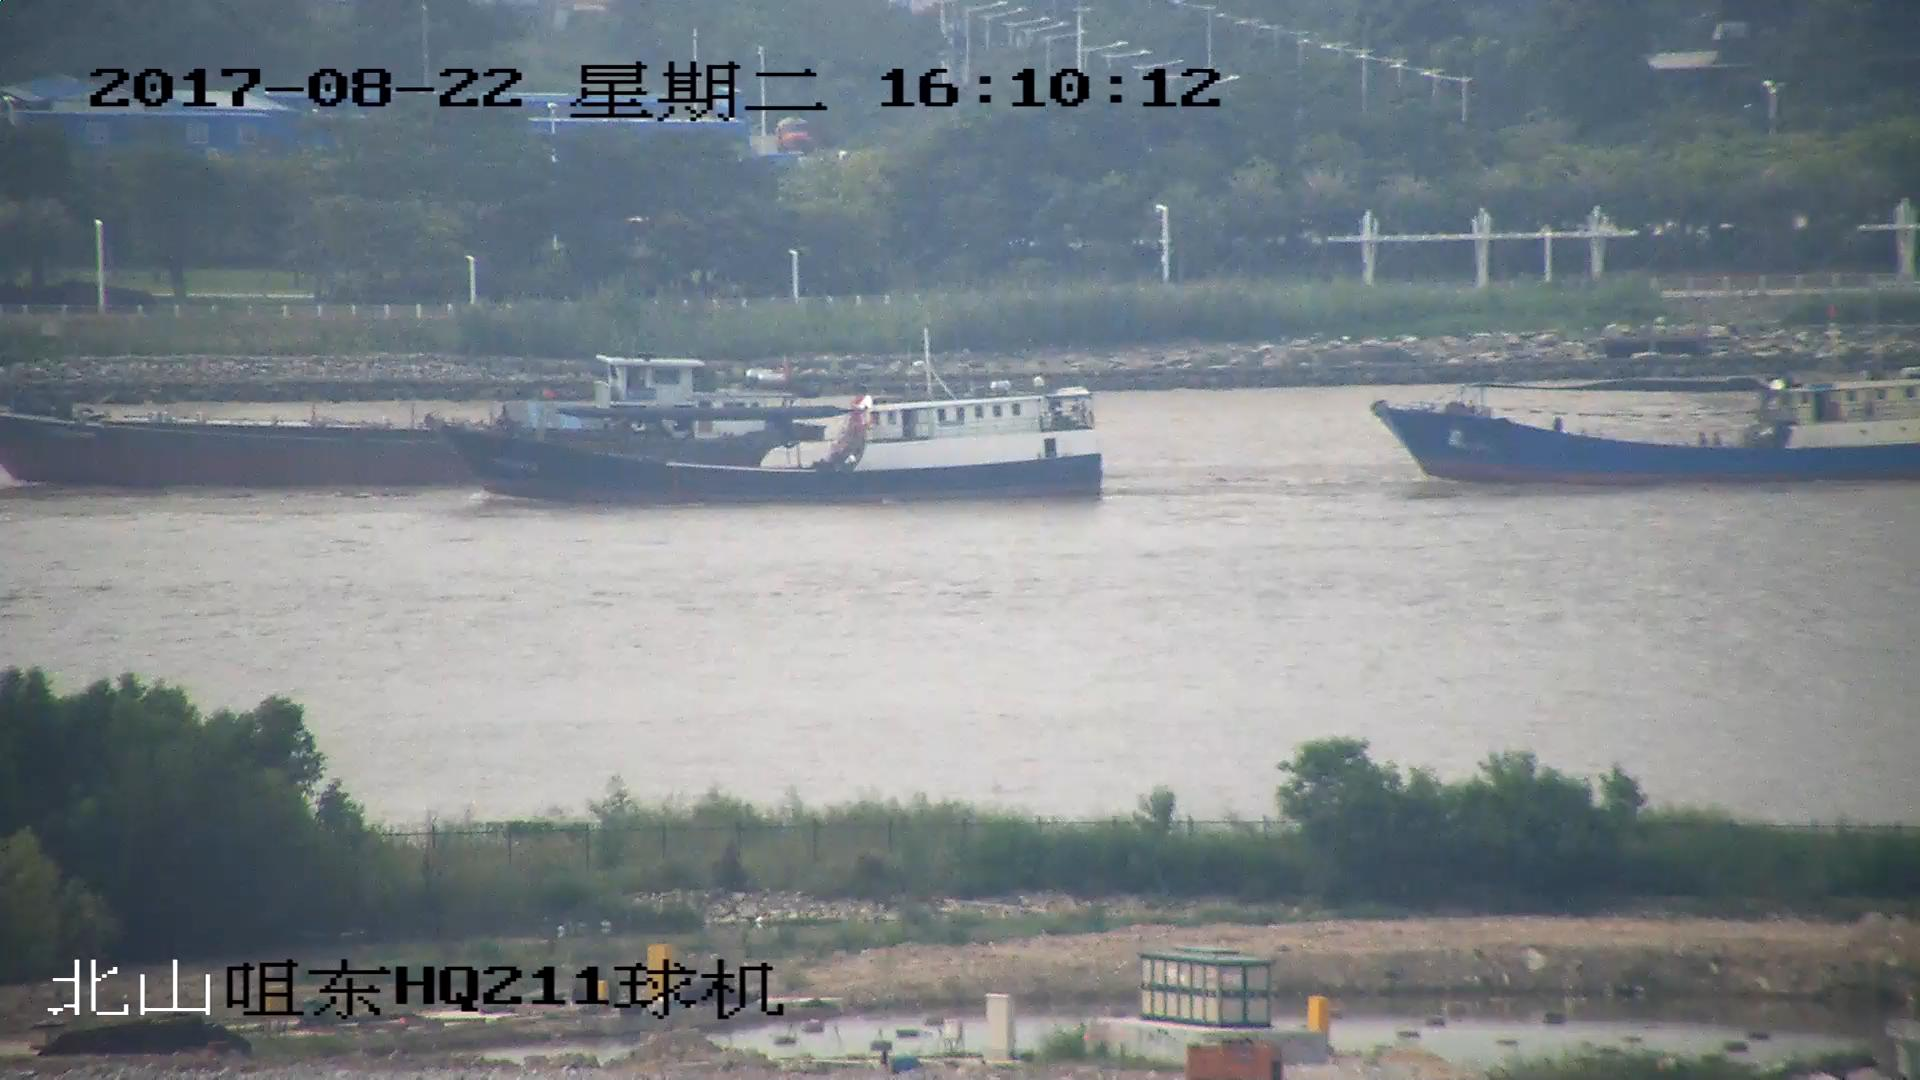bulk cargo carrier: (1, 355, 816, 476)
fishing boat: (433, 348, 1101, 507), (1376, 373, 1920, 488)
